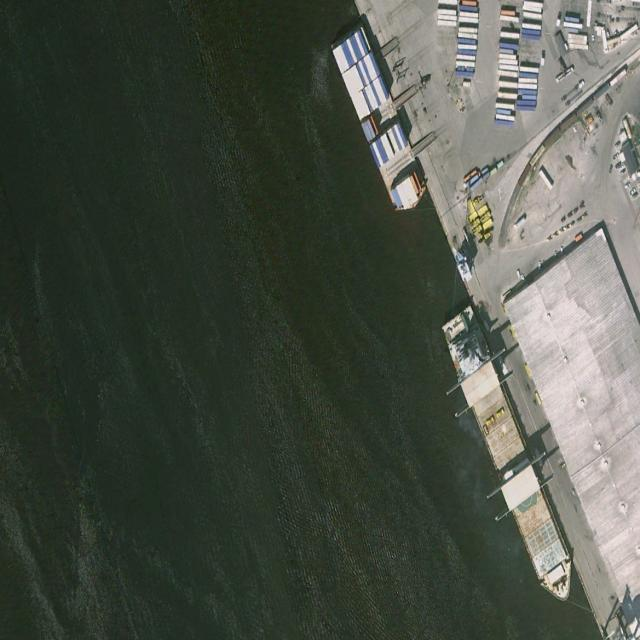Cargo: (441, 303, 582, 613)
Container Ship: (333, 25, 428, 217)
